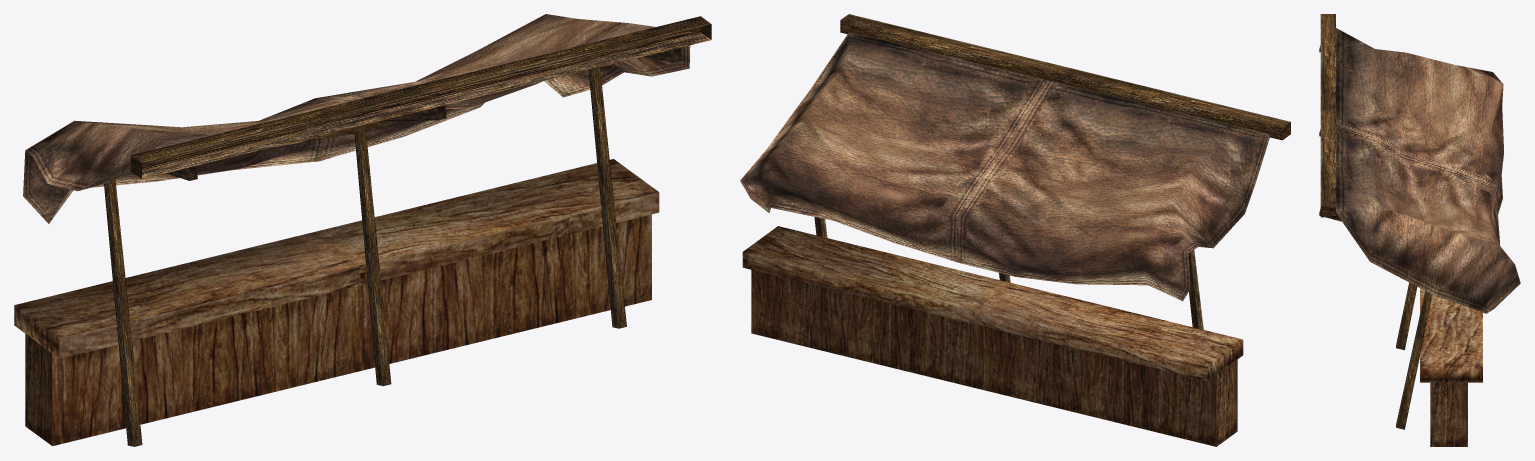
The model's file is hrt_tent1.glb.
The picture shows the model from 3 angles, left to right: view 1: azimuth 30°, elevation 25°; view 2: azimuth 150°, elevation 25°; view 3: azimuth 270°, elevation 25°; orthographic projection. The views are drawn at different scales.
Visible parts, largest first — view 1: hrt_tent1-col; view 2: hrt_tent1-col; view 3: hrt_tent1-col.
Part boxes in pixels (<box>): hrt_tent1-col: <box>14,14,711,446</box>; hrt_tent1-col: <box>740,14,1290,446</box>; hrt_tent1-col: <box>1319,14,1520,446</box>.
Size of the model in its own units: 5.46 by 2.91 by 2.27.
Materials: 3 (3 with a texture image).
